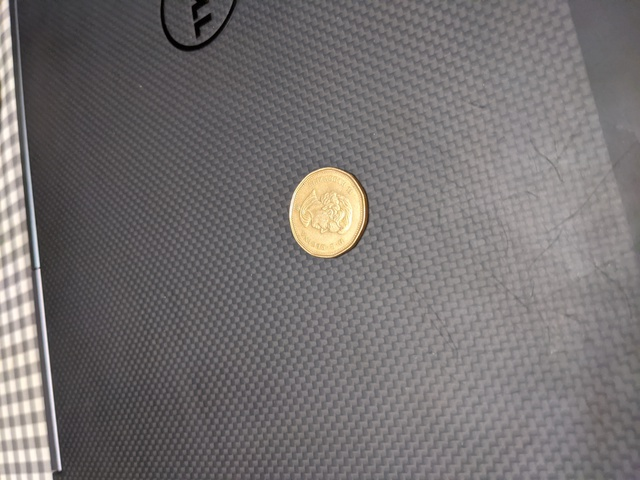loonie: (279, 163, 379, 266)
